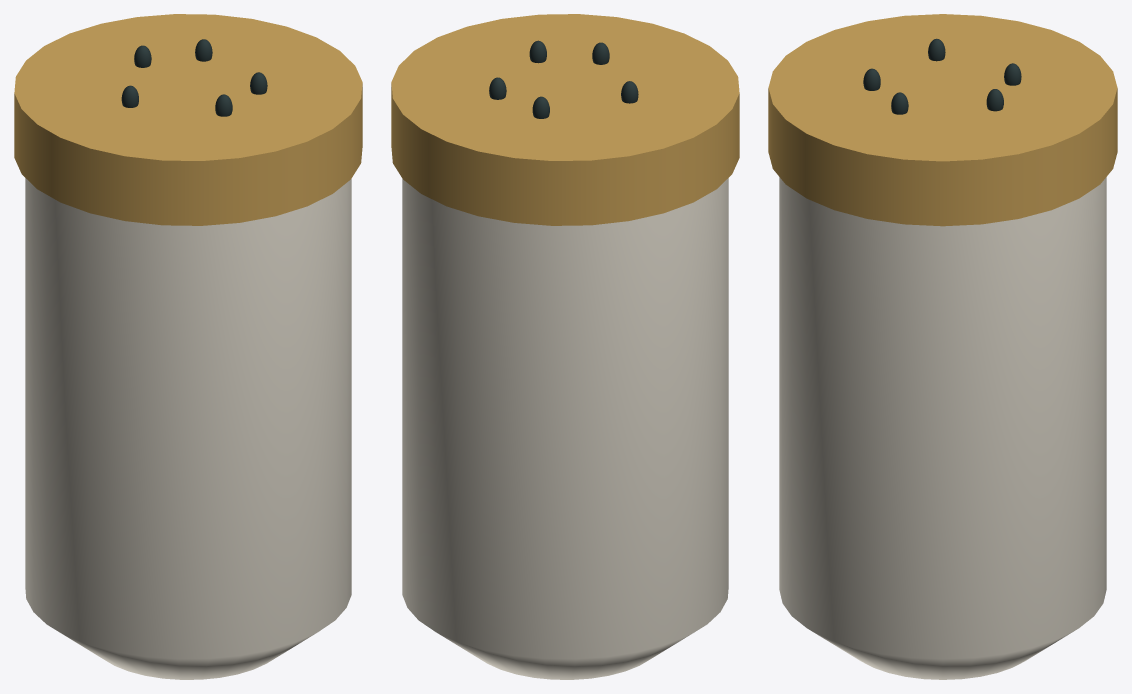
File: wp-saliere.glb
3 views of the same model, side by side, from view 1: azimuth 30°, elevation 25°; view 2: azimuth 150°, elevation 25°; view 3: azimuth 270°, elevation 25° (orthographic).
Parts seen in each view (by area): view 1: wp-saliere; view 2: wp-saliere; view 3: wp-saliere.
Part boxes in pixels (x1=…): wp-saliere: x1=14, y1=14, x2=362, y2=679; wp-saliere: x1=391, y1=14, x2=739, y2=679; wp-saliere: x1=768, y1=14, x2=1117, y2=679.
Size of the model in its own units: 0.05 by 0.09 by 0.05.
